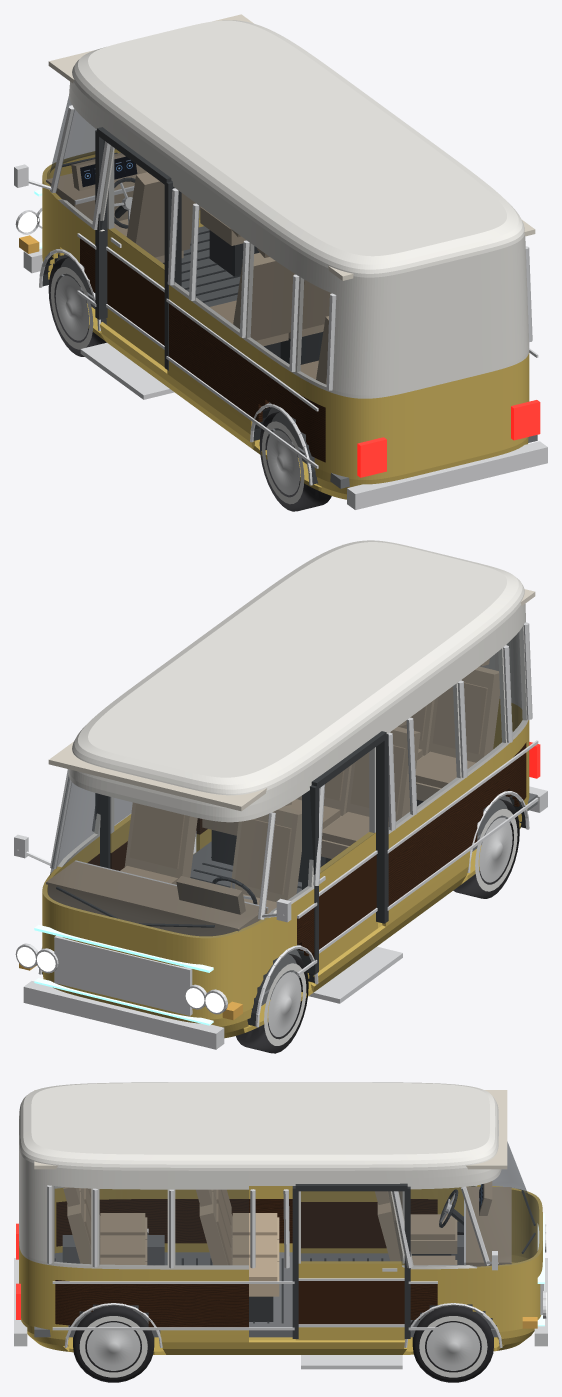
Rendered from van.glb.
3 renders of one model, top to bottom at view 1: azimuth 30°, elevation 25°; view 2: azimuth 150°, elevation 25°; view 3: azimuth 270°, elevation 25°, orthographic. The views are drawn at different scales.
Parts seen in each view (by area): view 1: body, trim, interior, body_glass, door_L2, tyre_BL, tyre_FL; view 2: body, body_glass, interior, trim, door_L2, tyre_FL, tyre_BL, door_R2; view 3: body, body_glass, interior, door_R2, trim, door_L2, tyre_FR, tyre_BR.
Boxes of the visible parts, <box> form: body: <box>42,20,529,499</box>; trim: <box>14,105,547,509</box>; interior: <box>46,14,537,488</box>; body_glass: <box>42,96,330,386</box>; door_L2: <box>106,149,164,366</box>; tyre_BL: <box>259,411,331,511</box>; tyre_FL: <box>48,257,106,356</box>; body: <box>42,540,529,1038</box>; body_glass: <box>42,627,526,937</box>; interior: <box>46,544,537,1005</box>; trim: <box>14,622,547,1049</box>; door_L2: <box>307,747,377,978</box>; tyre_FL: <box>236,953,308,1053</box>; tyre_BL: <box>453,799,519,898</box>; door_R2: <box>110,797,132,870</box>; body: <box>19,1082,542,1354</box>; body_glass: <box>54,1142,542,1267</box>; interior: <box>34,1090,511,1337</box>; door_R2: <box>295,1191,405,1340</box>; trim: <box>14,1183,547,1369</box>; door_L2: <box>301,1191,387,1253</box>; tyre_FR: <box>412,1305,493,1382</box>; tyre_BR: <box>73,1305,154,1382</box>.
Bounding box in the file's own units: 2.5 × 2.42 × 5.25.
21 materials, 2 textured.
